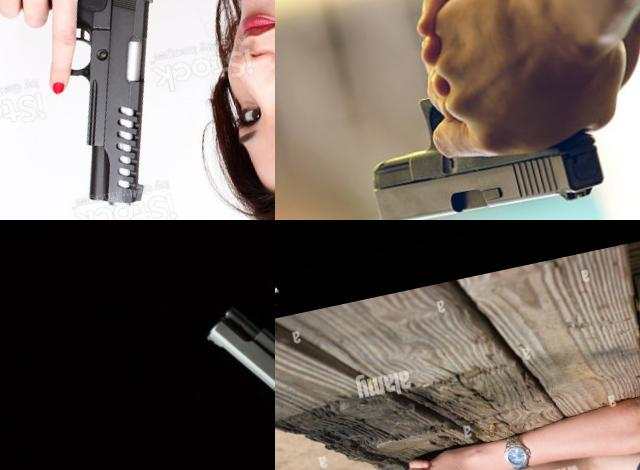handgun: (0, 0, 210, 220), (350, 47, 611, 220), (196, 274, 275, 470)
